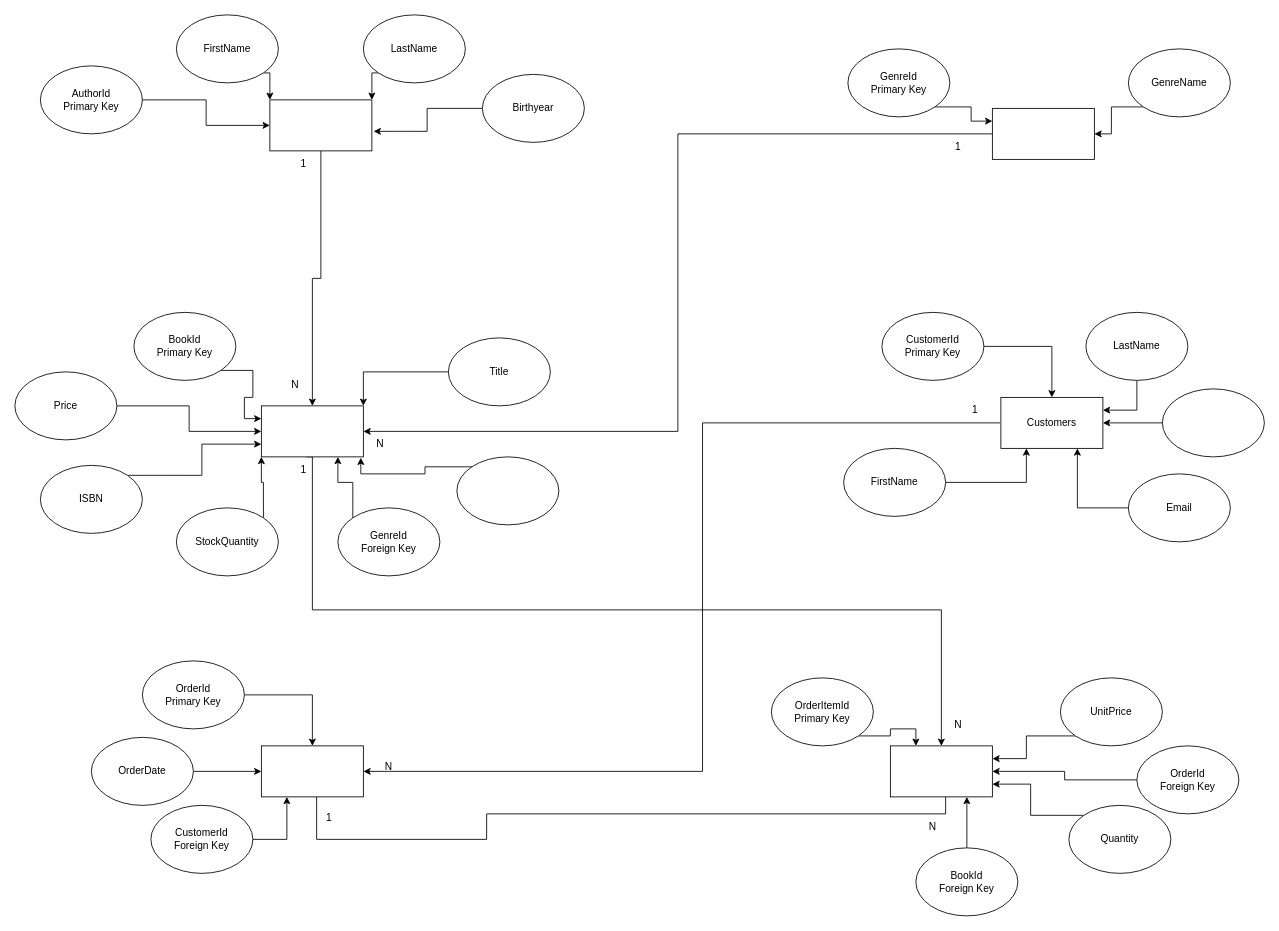
This 1279x931 diagram has some shape labels left out. Here are the shapes that lost their labels. From the top down, the box of each, then its label:
(269, 99, 372, 151): Authors
(992, 108, 1094, 159): Genres
(261, 405, 363, 457): Books
(1162, 388, 1264, 457): RegistrationDate
(456, 456, 559, 525): AuthorId Foreign Key
(261, 745, 363, 797): Orders
(890, 745, 992, 797): OrderItems
